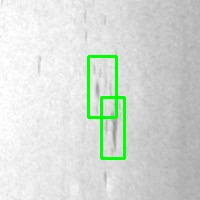inclusion: (88, 56, 116, 117), (101, 97, 124, 158)
